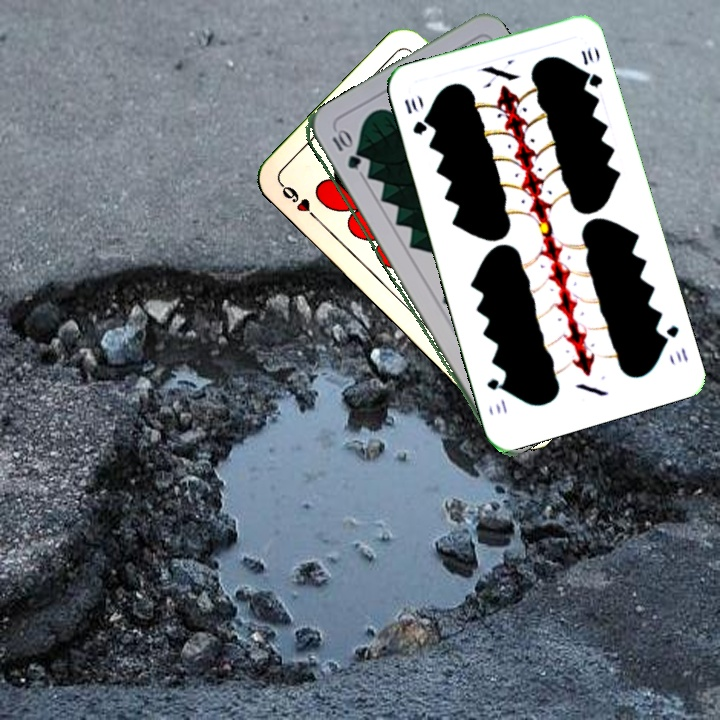G10: (328, 127, 362, 172), (657, 321, 691, 366), (400, 95, 430, 137)
H9: (277, 179, 323, 225)
